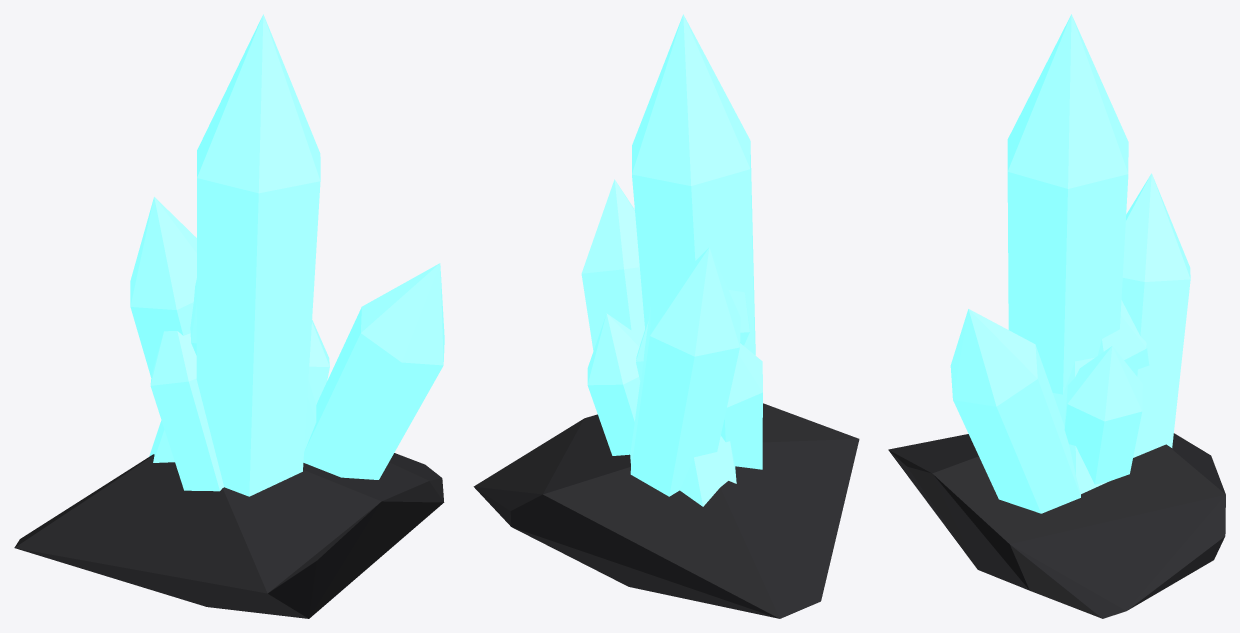
The model's file is cristales.fbx.
The picture shows the model from 3 angles, left to right: view 1: azimuth 30°, elevation 25°; view 2: azimuth 150°, elevation 25°; view 3: azimuth 270°, elevation 25°; orthographic projection. The views are drawn at different scales.
Parts seen in each view (by area): view 1: cristales; view 2: cristales; view 3: cristales.
Part boxes in pixels (x1,y1,x2,y2): cristales: [14, 14, 444, 618]; cristales: [473, 14, 859, 618]; cristales: [888, 14, 1225, 618].
Bounding box in the file's own units: 1.98 × 2.75 × 1.51.
